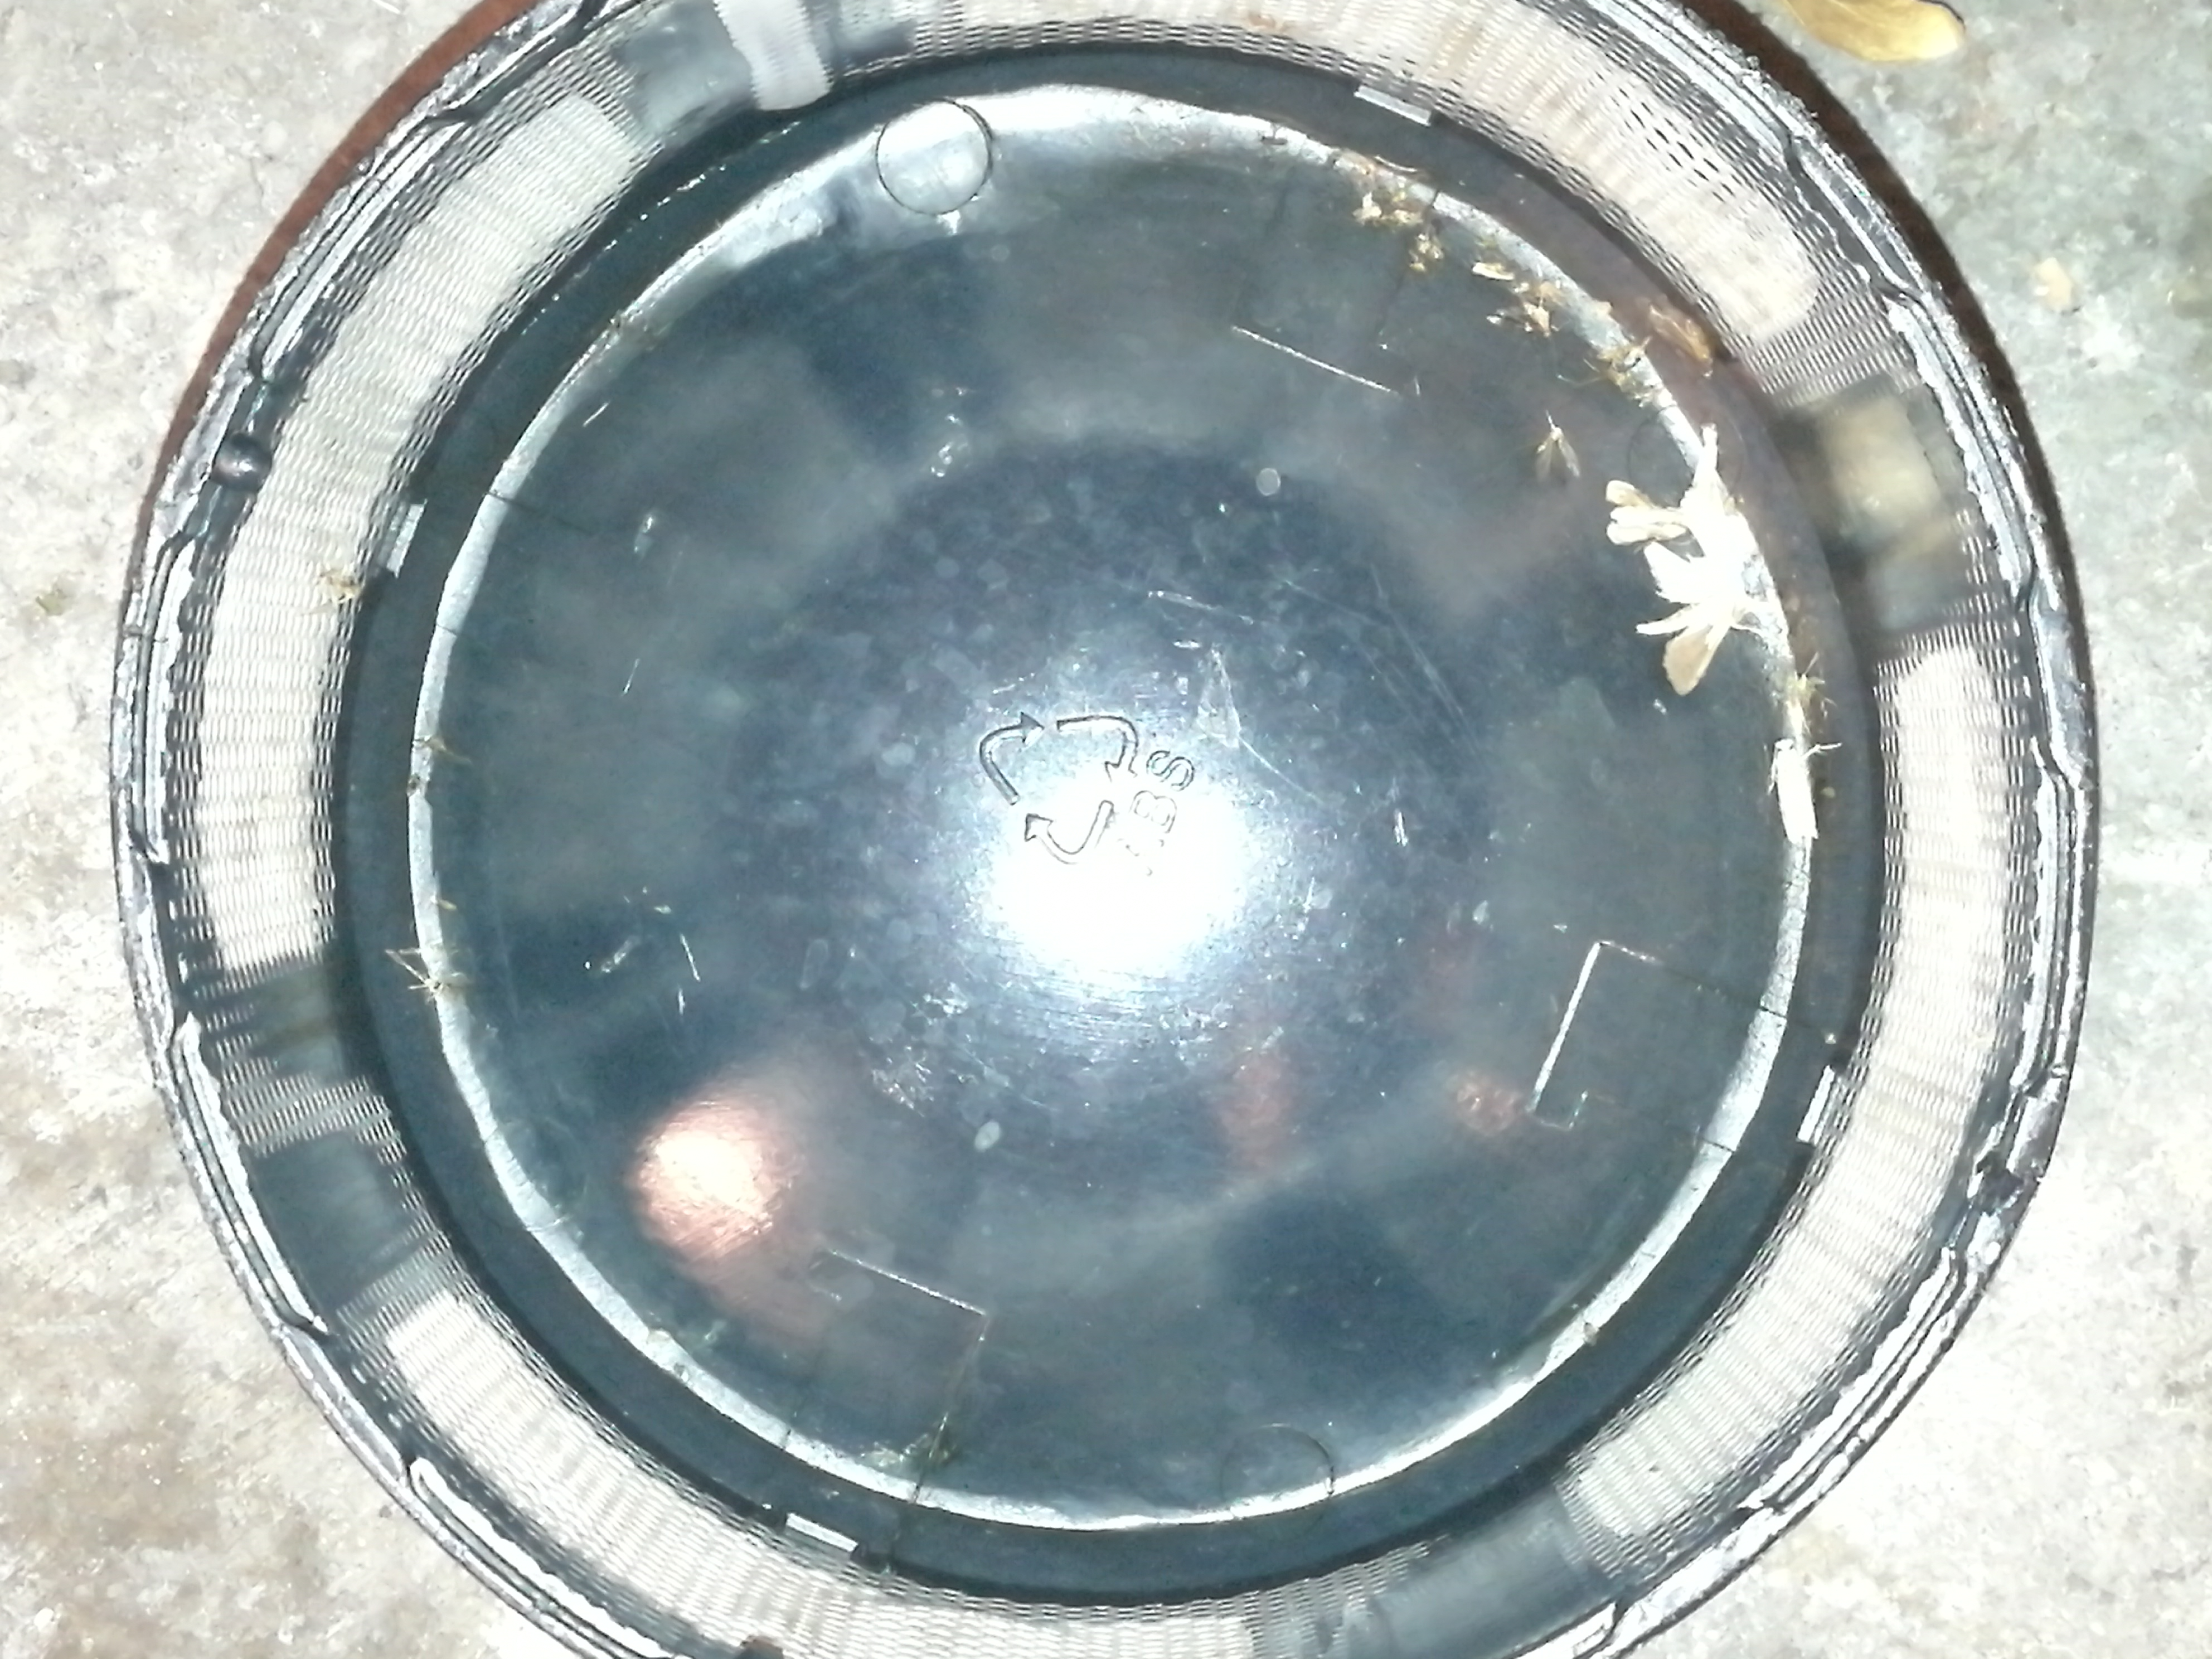mosquito: (1630, 293, 1712, 366), (1775, 737, 1815, 843), (1534, 410, 1562, 476)
moth: (1634, 540, 1749, 697), (1608, 477, 1686, 545)
